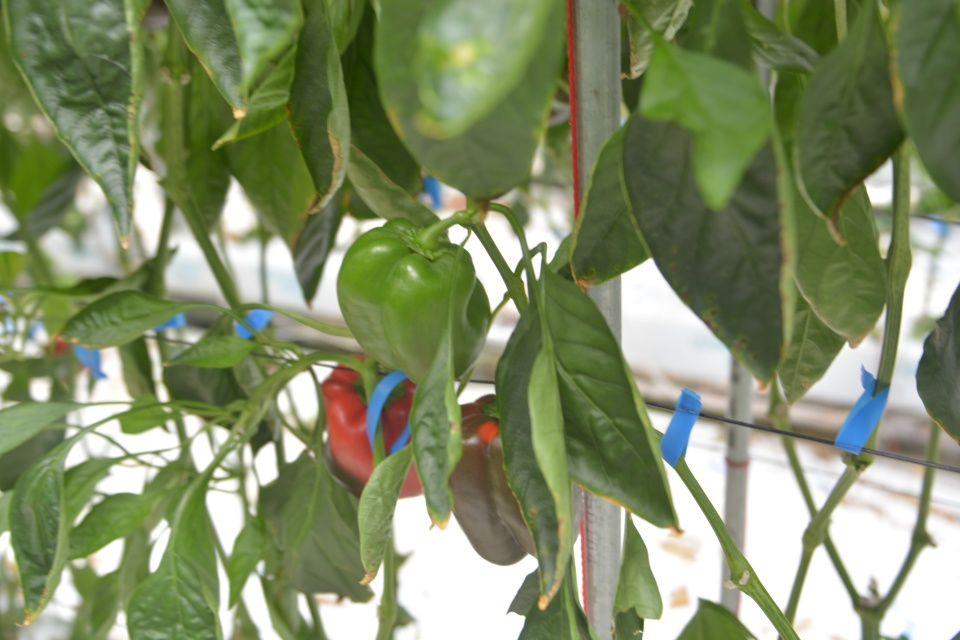fruit: (336, 216, 492, 389), (444, 392, 582, 566), (318, 353, 425, 499)
pedicle: (352, 373, 409, 404), (402, 227, 455, 257)
